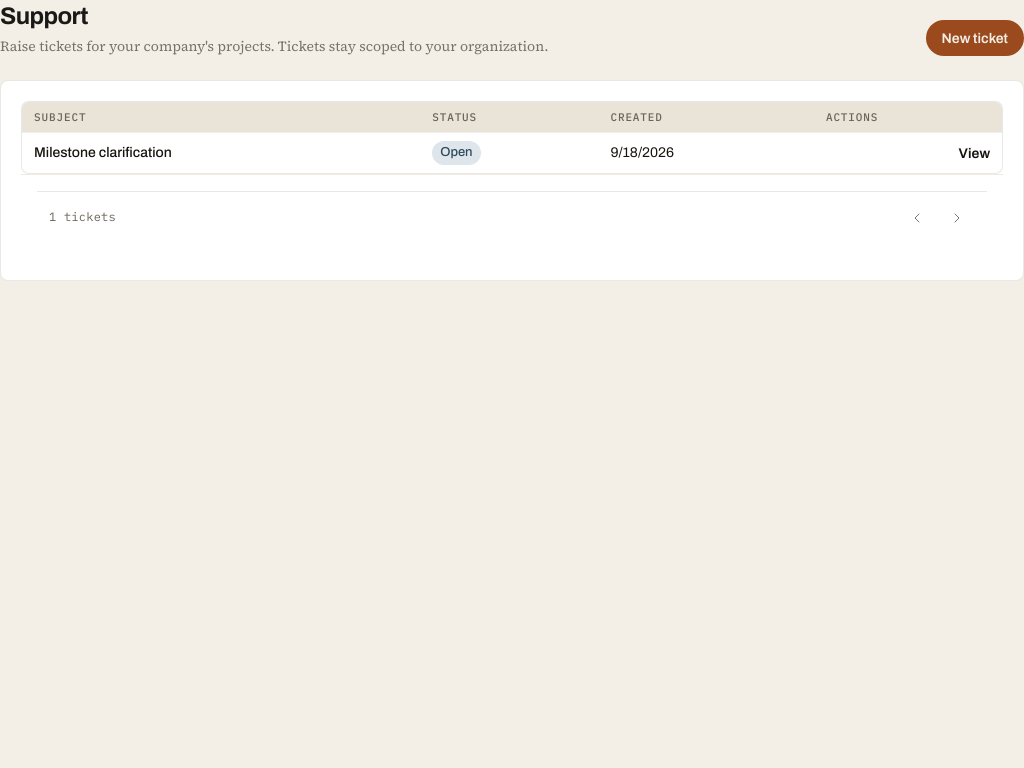
Client Portal Pages Suite › Portal Support › lists tickets and creates a new company-scoped ticket
Expected: the text "Milestone clarification" is shown, [22,133,420,173]
Click the button with test id "portal-support-create" at {"x": 975, "y": 38}, box [926,20,1023,56]
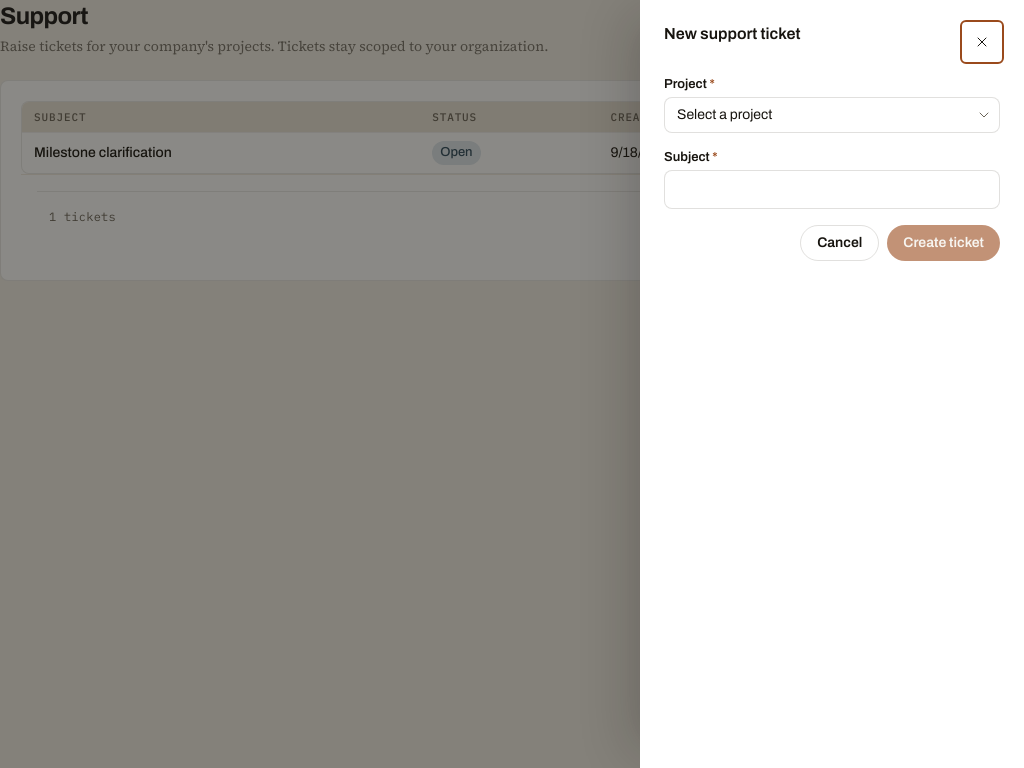
Select "Mobile App MVP" in the dropdown labelled "Project *" at {"x": 832, "y": 115}, box [664,97,1000,133]
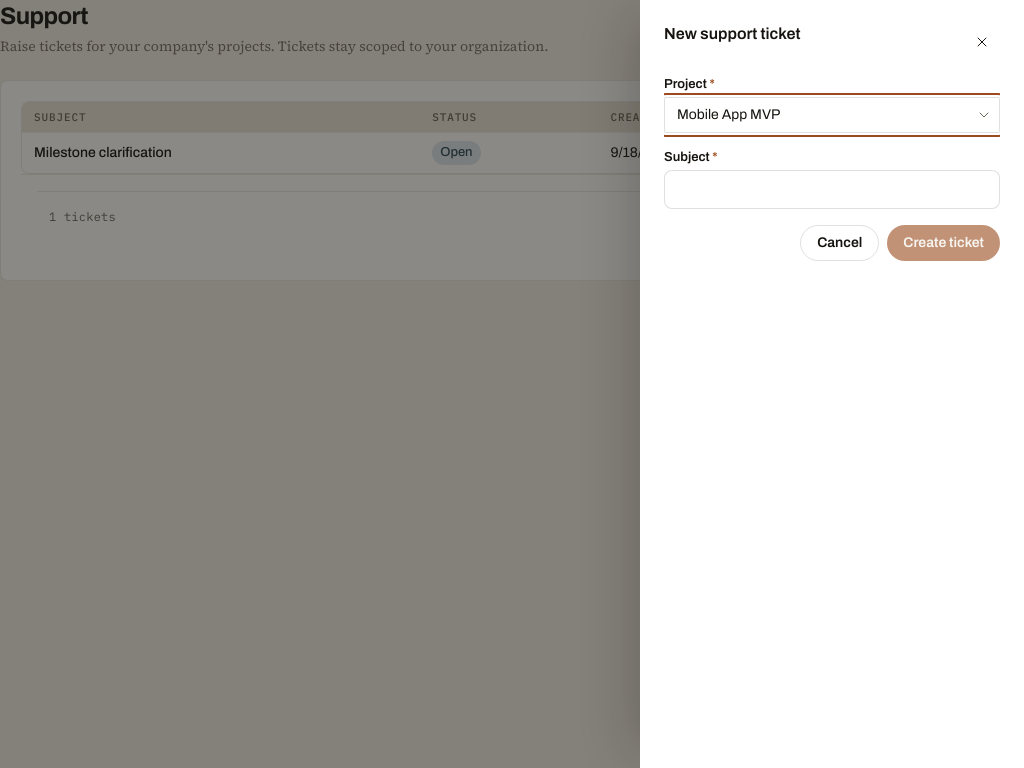
Type "Need invoice copy" into the field labelled "Subject *" at {"x": 832, "y": 189}, box [664,170,1000,209]
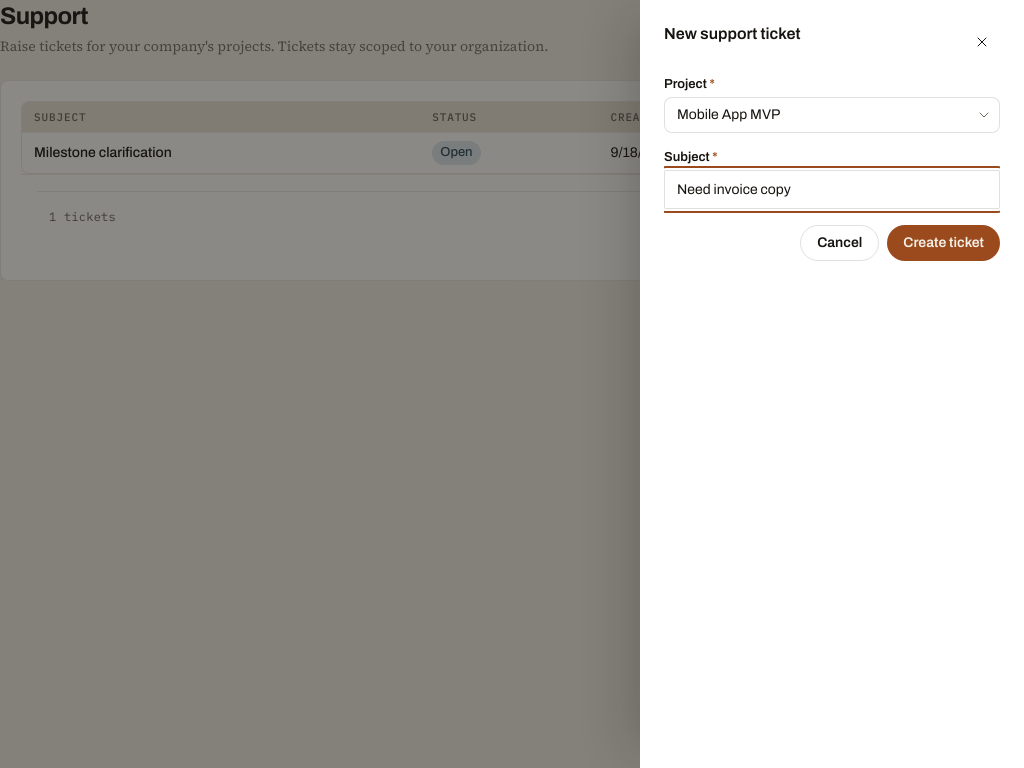
Click the button "Create ticket" at {"x": 944, "y": 243}, box [887,225,1000,261]
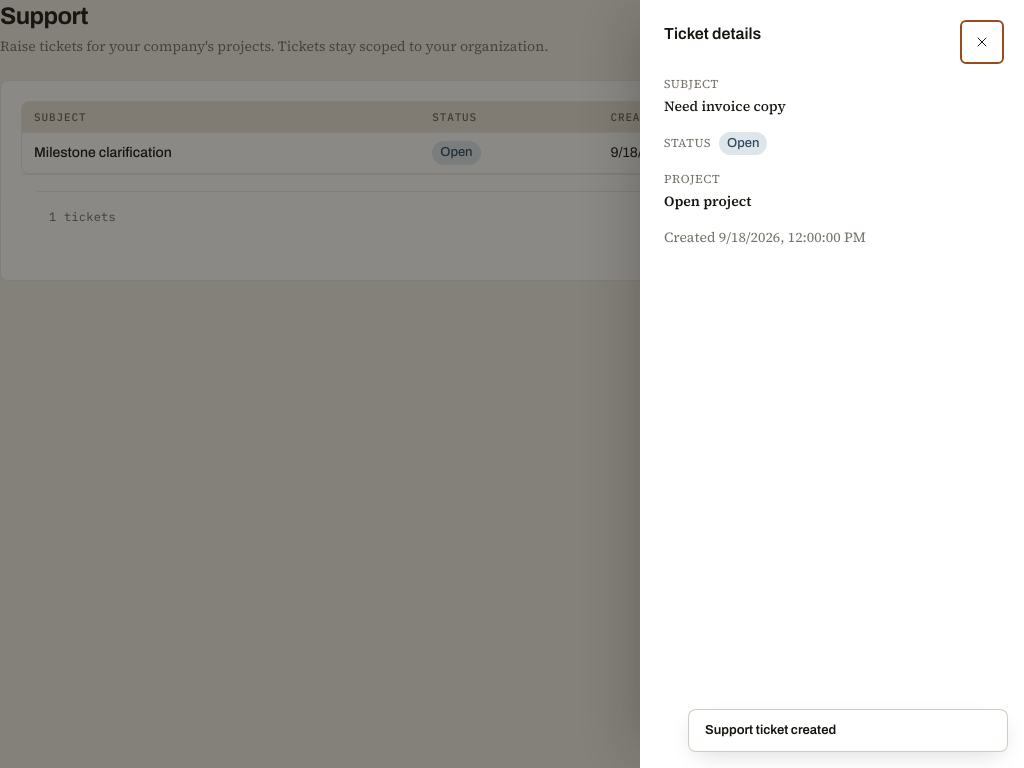
Expected: the element with test id "portal-support-detail" shows "Need invoice copy", [664,96,786,116]
